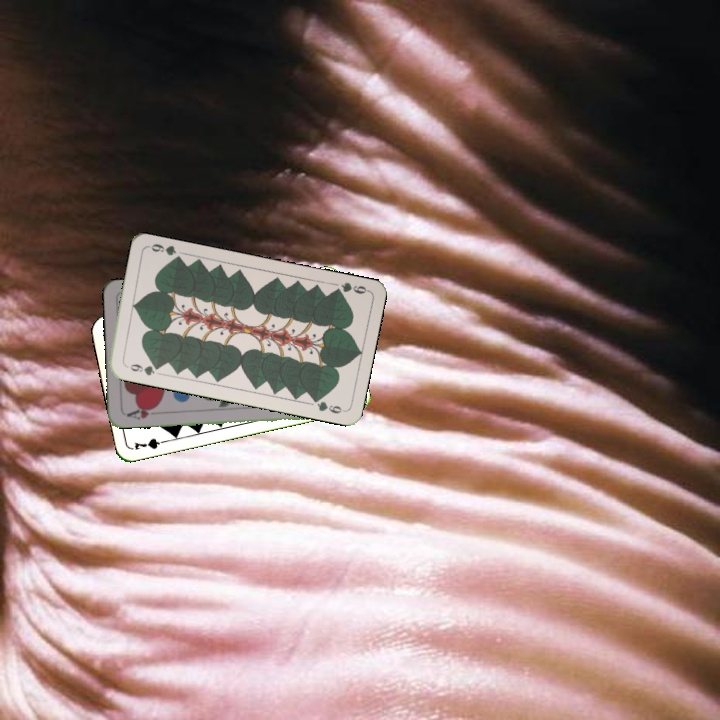G7: (130, 434, 171, 453)
G9: (329, 278, 370, 297), (121, 360, 162, 378)
HA: (123, 402, 160, 422)
